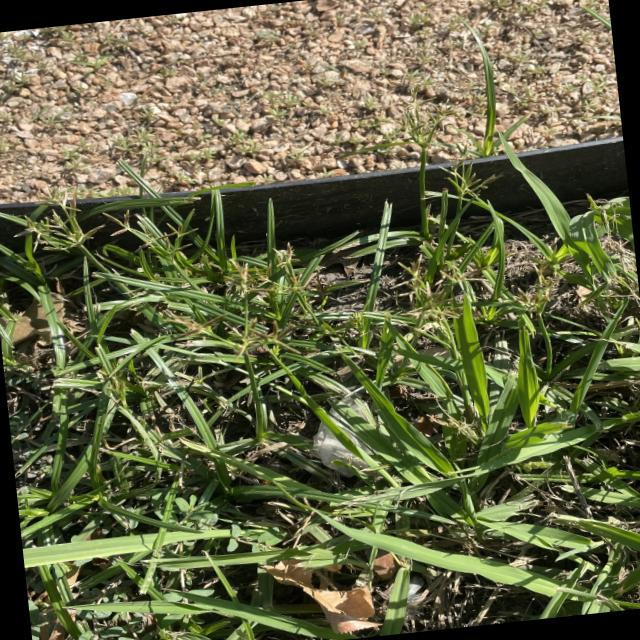cyperus: (392, 72, 502, 206), (210, 253, 294, 365), (394, 247, 492, 341), (2, 176, 106, 257), (102, 194, 204, 268), (494, 250, 568, 322), (158, 296, 232, 352), (248, 242, 308, 302), (95, 359, 141, 412), (342, 305, 371, 336)
